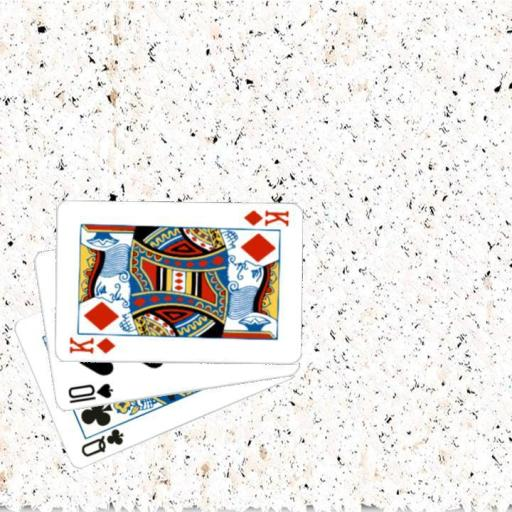card-corner: (78, 426, 125, 459), (64, 380, 114, 406), (66, 334, 116, 356), (240, 207, 290, 228)
